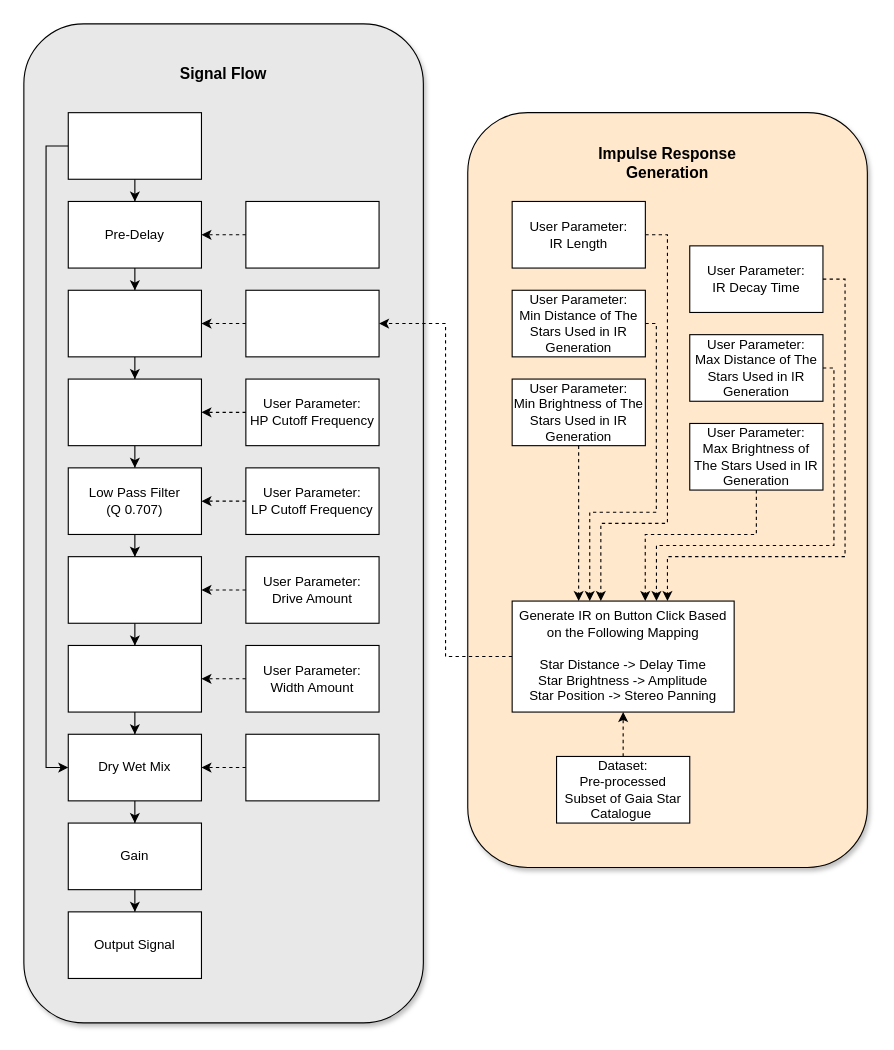
This 894x1050 diagram has some shape labels left out. The shapes that lost their labels are listed below. From the top down, each one's centre as x and y in pixels, then its label:
At (x=134, y=145): "Input Signal".
At (x=312, y=234): "User Parameter: Pre-Delay Amount".
At (x=134, y=323): "Convolution".
At (x=312, y=323): "Load Generated IR".
At (x=134, y=412): "High Pass Filter (Q 0.707)".
At (x=134, y=589): "Saturation (tanh)".
At (x=134, y=678): "Stereo Widening (mid/side widening)".
At (x=312, y=767): "User Parameter: Dry/Wet Amount".
